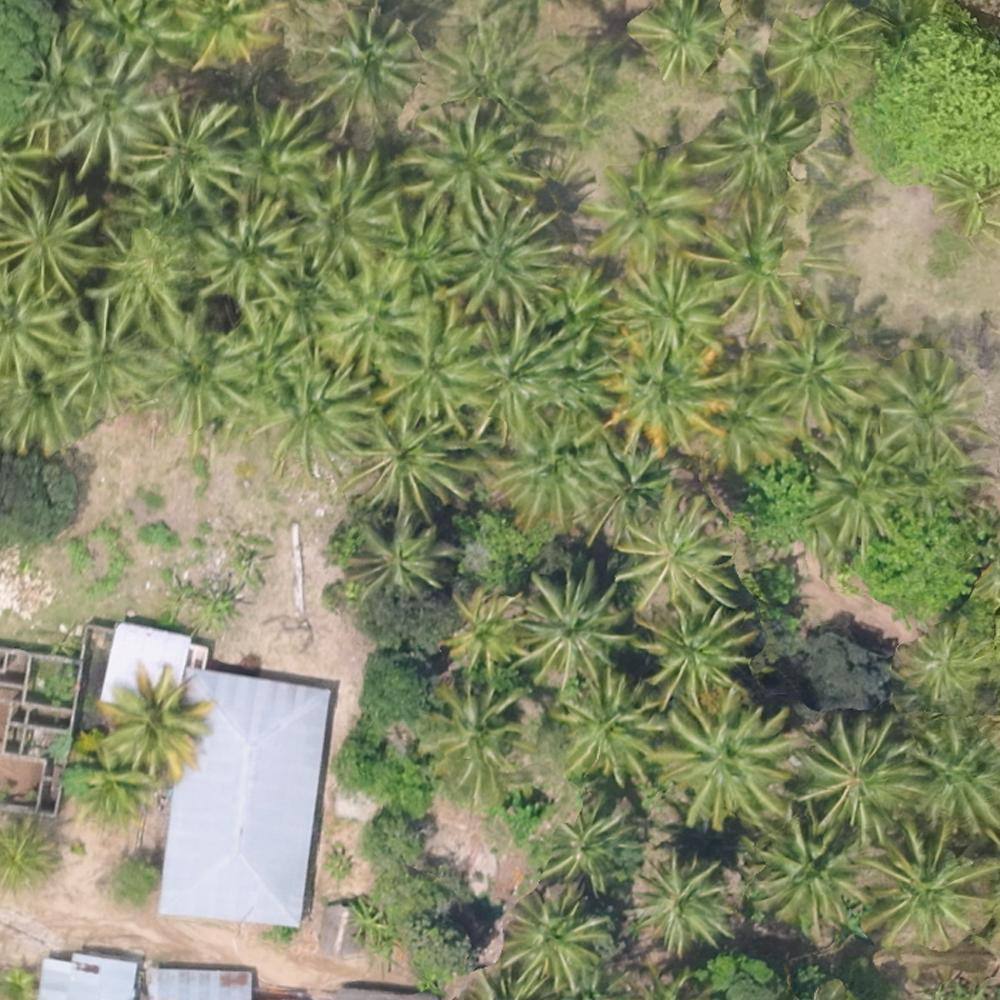Palm: (128, 307, 257, 436), (663, 704, 794, 828), (59, 49, 169, 180), (399, 112, 529, 222), (121, 93, 242, 211), (862, 831, 984, 946), (495, 408, 613, 523), (702, 201, 814, 321), (443, 196, 562, 306), (460, 309, 574, 423), (802, 721, 922, 828), (607, 341, 727, 448), (1, 177, 105, 296), (99, 669, 213, 777), (619, 499, 734, 606), (253, 358, 364, 468), (314, 262, 426, 371), (302, 11, 412, 121), (596, 154, 707, 260), (380, 311, 492, 415), (549, 676, 662, 779), (753, 329, 868, 429), (521, 574, 626, 682), (426, 686, 528, 796), (293, 155, 393, 267), (697, 94, 804, 198), (753, 826, 863, 925), (642, 599, 752, 698), (341, 409, 449, 509), (195, 198, 296, 304), (43, 307, 142, 414), (768, 6, 881, 97), (805, 445, 905, 546), (237, 95, 331, 199), (872, 358, 970, 454), (912, 727, 1000, 833), (507, 896, 605, 989), (614, 260, 714, 351), (633, 859, 729, 947), (350, 521, 447, 597), (637, 4, 726, 80), (545, 808, 627, 890), (446, 590, 519, 669)
